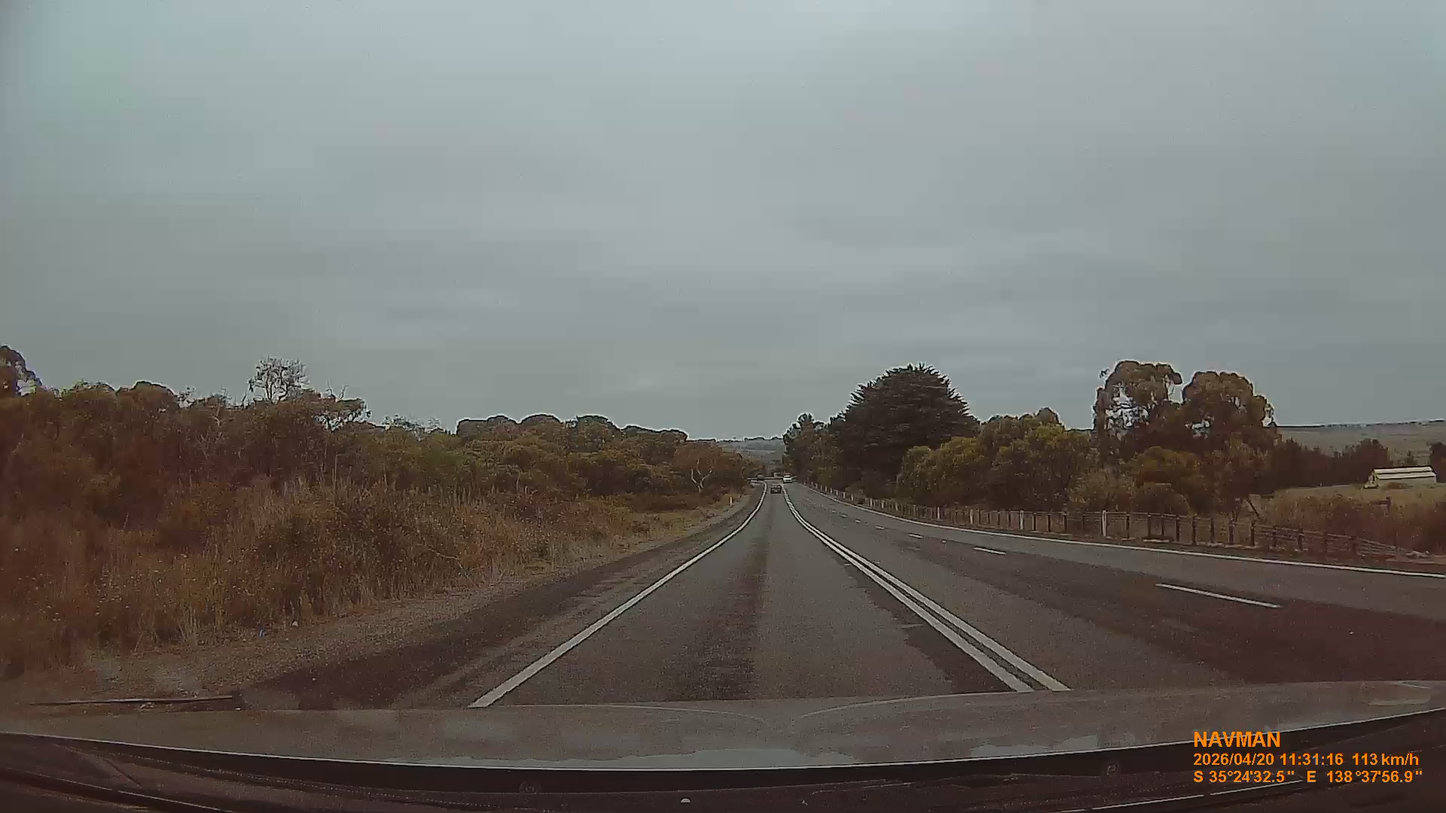fences: (810, 483, 1418, 557)
